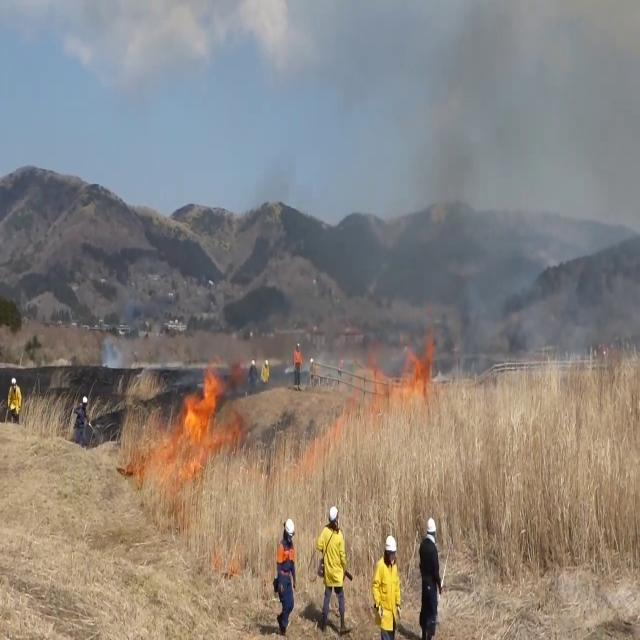Fire: (132, 356, 228, 491), (364, 327, 438, 408)
Smoke: (386, 0, 639, 396)
